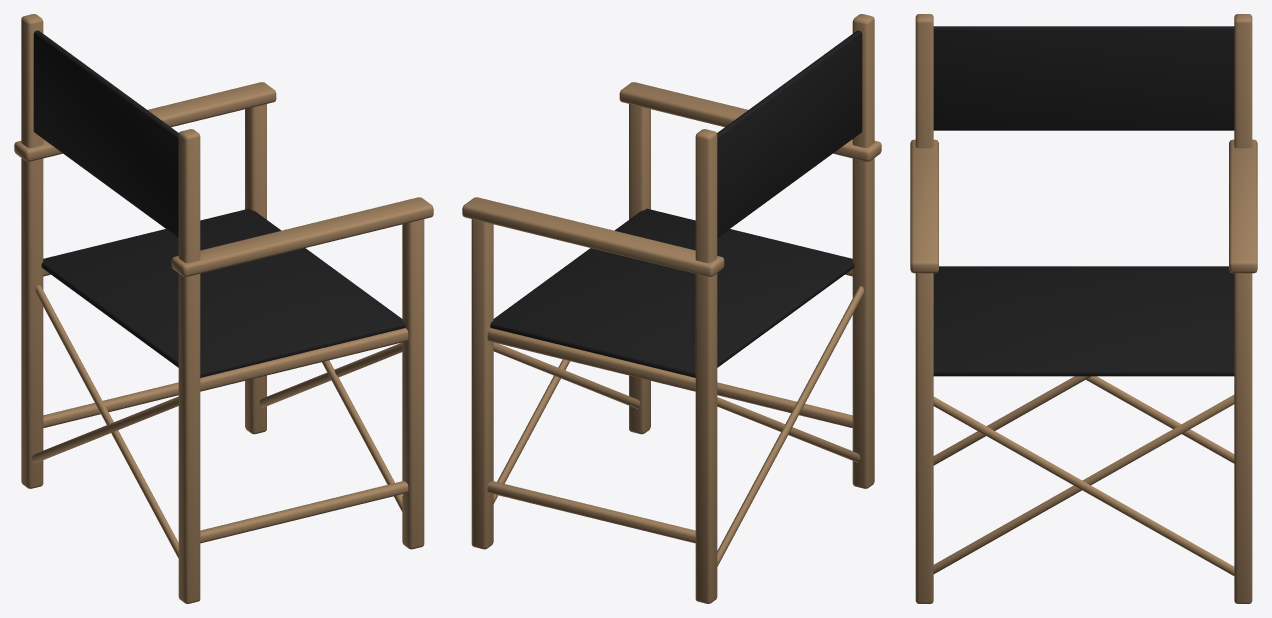
The model's file is directors_chair.glb.
3 renders of one model, left to right at view 1: azimuth 30°, elevation 25°; view 2: azimuth 150°, elevation 25°; view 3: azimuth 270°, elevation 25°, orthographic.
Parts seen in each view (by area): view 1: Seat_LOD0, Back_LOD0, LegB_LOD0, LegB_LOD0.001, LegF_LOD0, Arm_LOD0, LegF_LOD0.001, Arm_LOD0.001, SeatRail_LOD0, Stretcher_LOD0, Cross_LOD0.002, Stretcher_LOD0.001 (+3 smaller); view 2: Seat_LOD0, Back_LOD0, LegB_LOD0.001, LegB_LOD0, LegF_LOD0.001, Arm_LOD0.001, LegF_LOD0, Arm_LOD0, SeatRail_LOD0.001, Stretcher_LOD0.001, Cross_LOD0.003, Stretcher_LOD0 (+3 smaller); view 3: Seat_LOD0, Back_LOD0, LegF_LOD0, LegF_LOD0.001, Arm_LOD0, Arm_LOD0.001, Cross_LOD0.001, Cross_LOD0, LegB_LOD0, LegB_LOD0.001, Cross_LOD0.002, Cross_LOD0.003.
Boxes of the visible parts, x1,y1,x2,y2 form: Seat_LOD0: (41,208,405,377); Back_LOD0: (33,30,178,237); LegB_LOD0: (178,129,200,603); LegB_LOD0.001: (21,14,43,488); LegF_LOD0: (402,219,424,549); Arm_LOD0: (171,197,433,276); LegF_LOD0.001: (245,104,266,434); Arm_LOD0.001: (14,82,276,161); SeatRail_LOD0: (200,328,408,391); Stretcher_LOD0: (200,481,408,543); Cross_LOD0.002: (35,285,178,558); Stretcher_LOD0.001: (43,382,178,427); Seat_LOD0: (490,208,854,377); Back_LOD0: (717,30,862,237); LegB_LOD0.001: (695,129,717,603); LegB_LOD0: (852,14,874,488); LegF_LOD0.001: (471,219,493,549); Arm_LOD0.001: (462,197,724,276); LegF_LOD0: (629,104,650,434); Arm_LOD0: (619,82,881,161); SeatRail_LOD0.001: (487,328,695,391); Stretcher_LOD0.001: (487,481,695,543); Cross_LOD0.003: (717,286,863,566); Stretcher_LOD0: (717,382,852,427); Seat_LOD0: (933,266,1234,376); Back_LOD0: (933,26,1234,130); LegF_LOD0: (915,273,933,603); LegF_LOD0.001: (1234,273,1252,603); Arm_LOD0: (910,139,938,273); Arm_LOD0.001: (1229,139,1257,273); Cross_LOD0.001: (933,397,1234,575); Cross_LOD0: (933,395,1234,573); LegB_LOD0: (915,14,933,148); LegB_LOD0.001: (1234,14,1252,148); Cross_LOD0.002: (933,376,1090,465); Cross_LOD0.003: (1086,376,1234,463).
Bounding box in the file's own units: 0.515 × 0.92 × 0.61.
